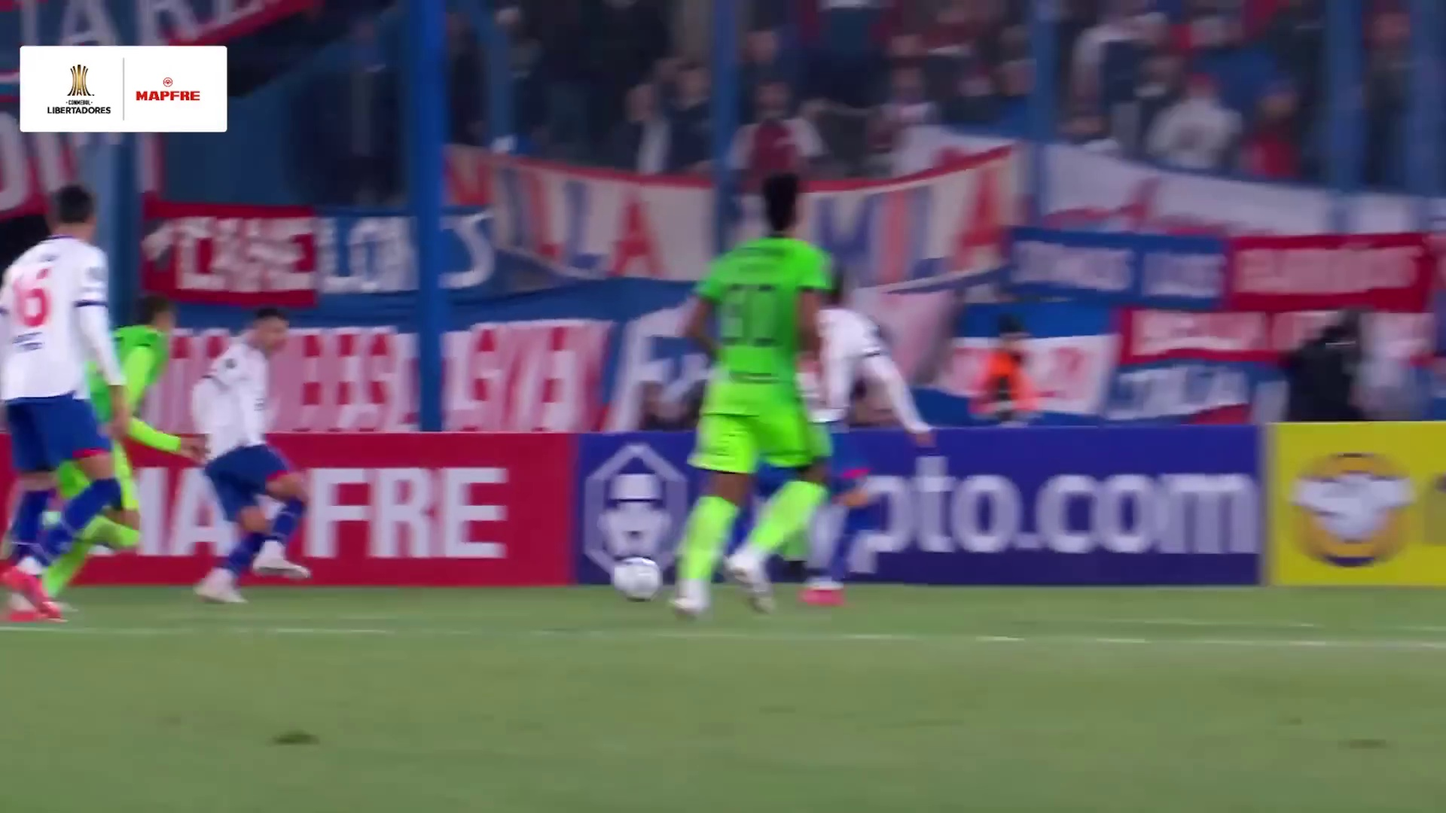ball: (602, 550, 663, 611)
player: (669, 167, 834, 627), (0, 182, 148, 616), (54, 284, 210, 615), (791, 257, 935, 614), (195, 303, 315, 610)
